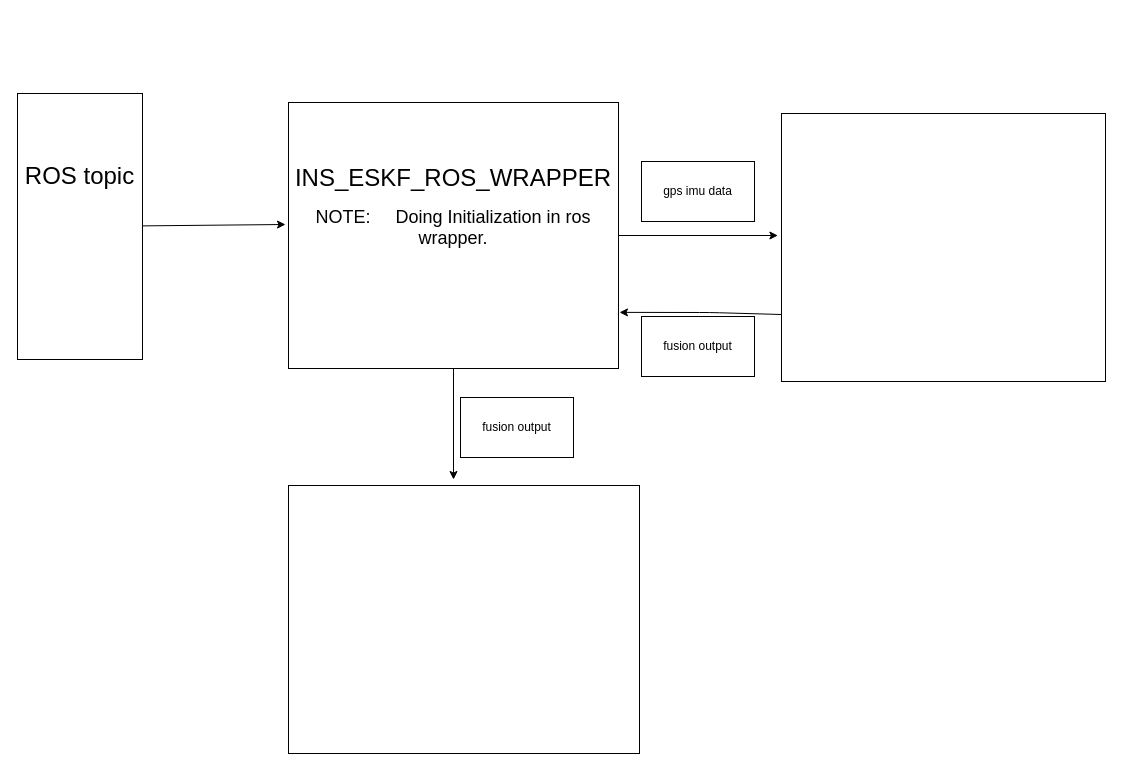
This 1123x771 diagram has some shape labels left out. The box of each missing label's shape, as (x1, y1, x2, y2) in pixels:
INS_ESKF fusing the gps & imu data here: (780, 112, 1106, 382)
RVIZ visialize the fusion result.and compare with the base line .: (288, 484, 640, 754)
